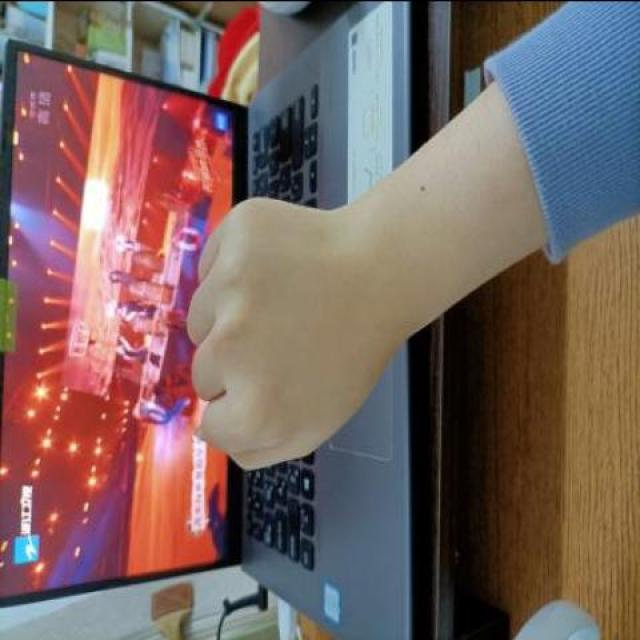fist: (184, 166, 416, 478)
